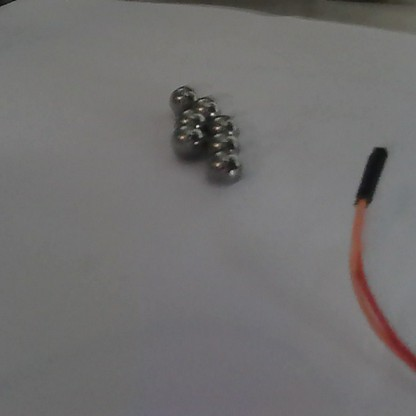ironball: (168, 124, 206, 155), (210, 157, 242, 185), (169, 81, 195, 110), (207, 130, 236, 155), (172, 109, 204, 129), (205, 112, 234, 134), (192, 94, 219, 116)
